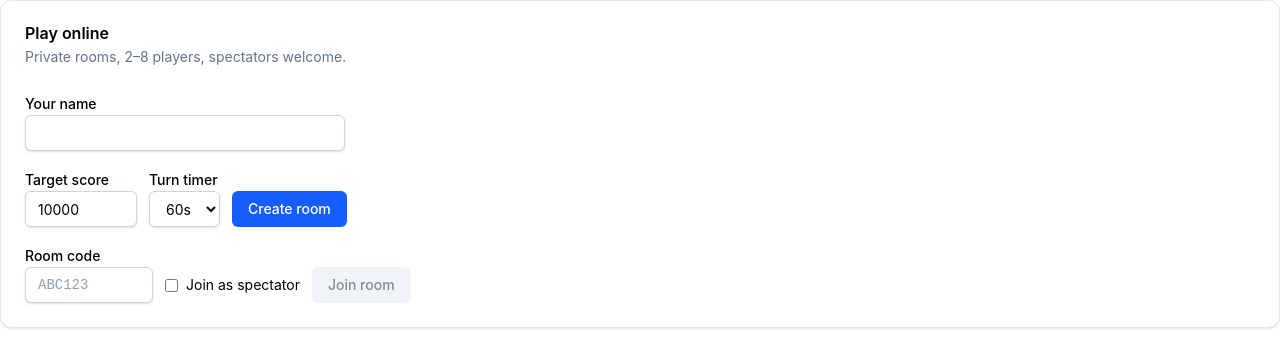
OnlinePage › creates a room from the lobby form and shows the code
Type "Ann" into the field labelled "Your name".
click(185, 133); type("Ann")  # box [25,115,345,151]
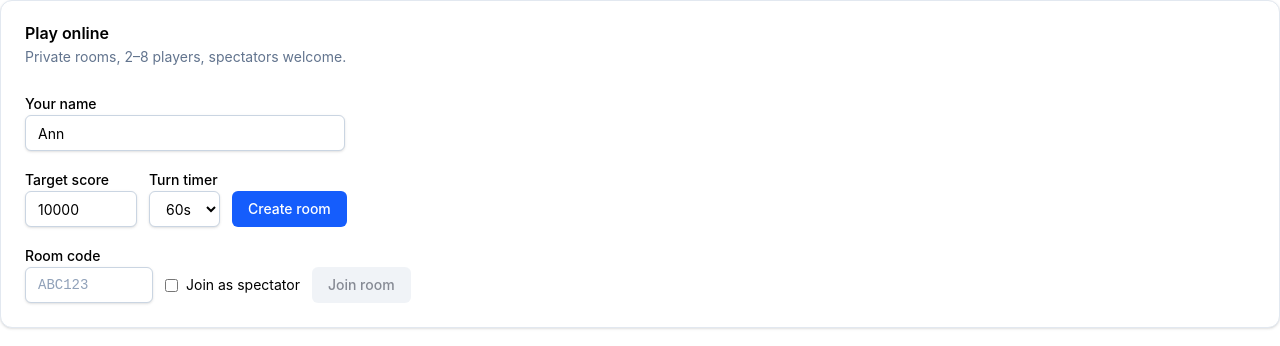
Click the button "Create room".
click(289, 209)  # box [232,191,347,227]
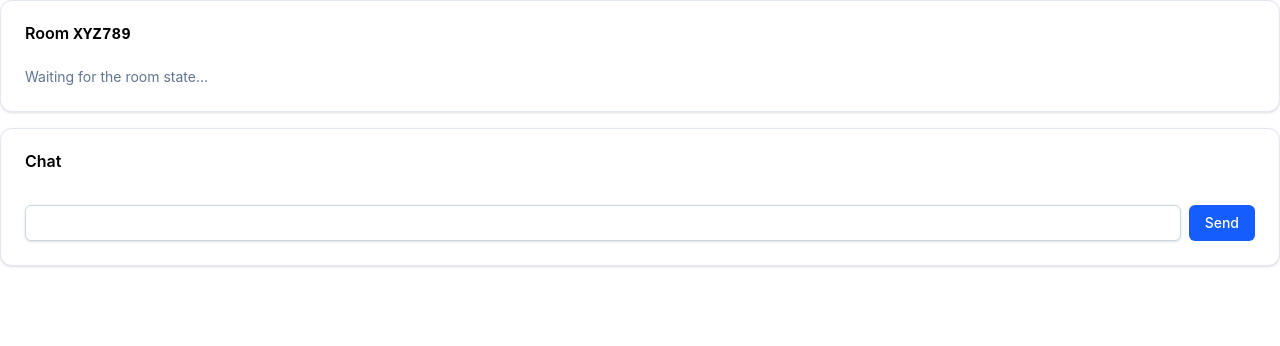
Expected: the text "XYZ789" is shown, [73,26,131,44]
